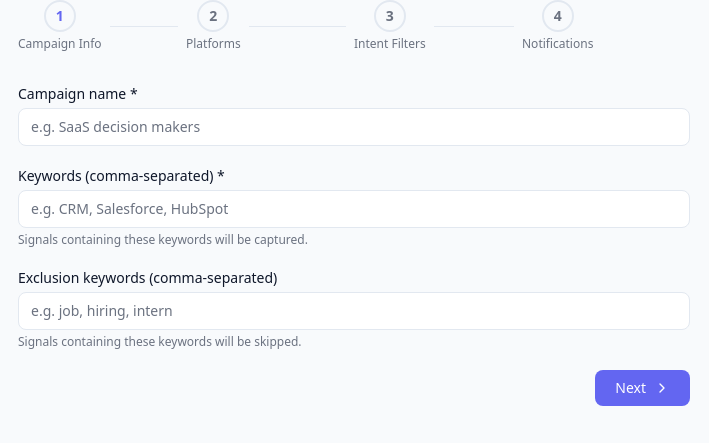
Test case: CampaignWizard — Step 1: Campaign Info › shows error when keywords are empty on Next
Type "My Campaign" into the field with placeholder "e.g. SaaS decision makers".
click(354, 127); type("My Campaign")  # box 18,108 -> 690,146
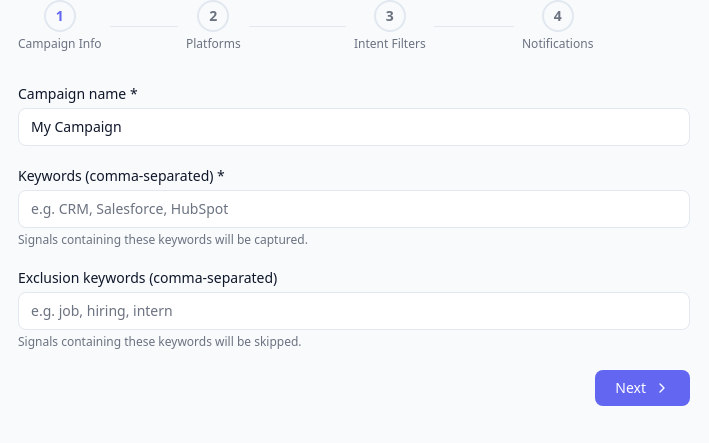
Click the button "Next".
click(643, 388)  # box 595,370 -> 690,406
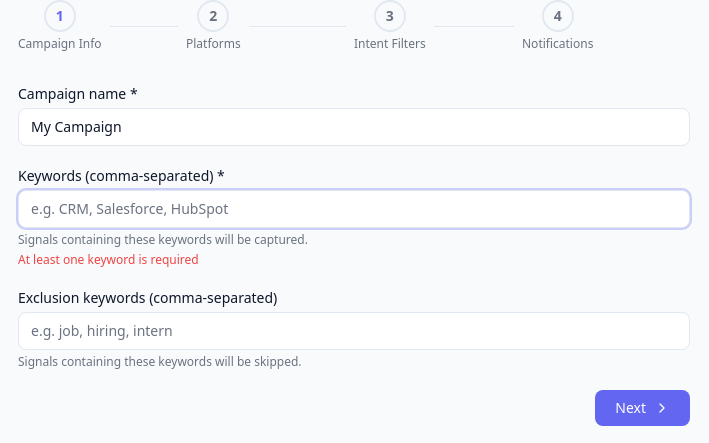
Now the text "At least one keyword is required" is shown, box 18,251 -> 199,268
